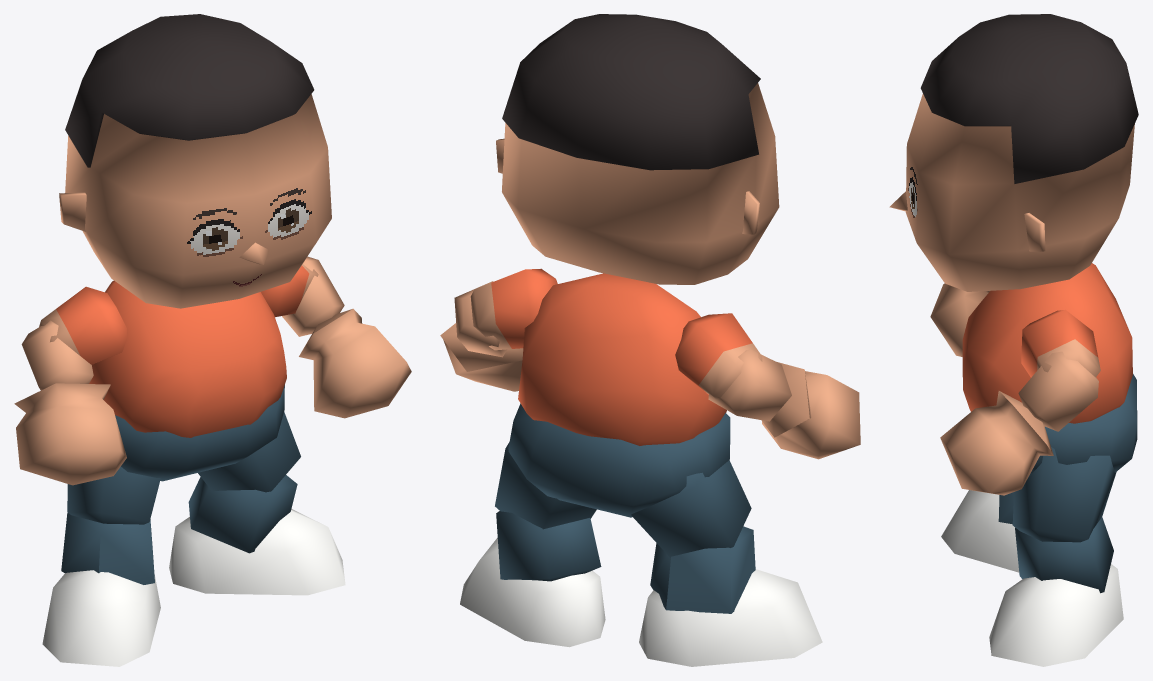
The picture shows the model from 3 angles, left to right: view 1: azimuth 30°, elevation 25°; view 2: azimuth 150°, elevation 25°; view 3: azimuth 270°, elevation 25°; orthographic projection. The views are drawn at different scales.
Parts seen in each view (by area): view 1: Character; view 2: Character; view 3: Character.
Part boxes in pixels (x1,y1,x2,y2): Character: (14, 14, 411, 666); Character: (440, 14, 860, 666); Character: (889, 14, 1138, 666).
Size of the model in its own units: 1.98 by 2.75 by 1.1.
9 materials, 2 textured.
